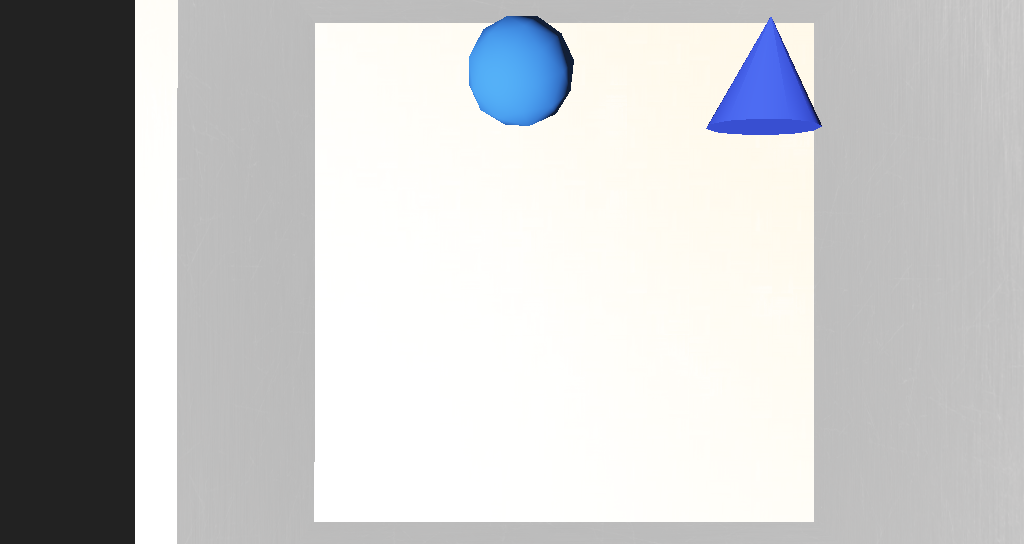cone: (3, 119, 77, 177)
cylinder: (589, 155, 664, 217)
sphere: (445, 165, 512, 208)
